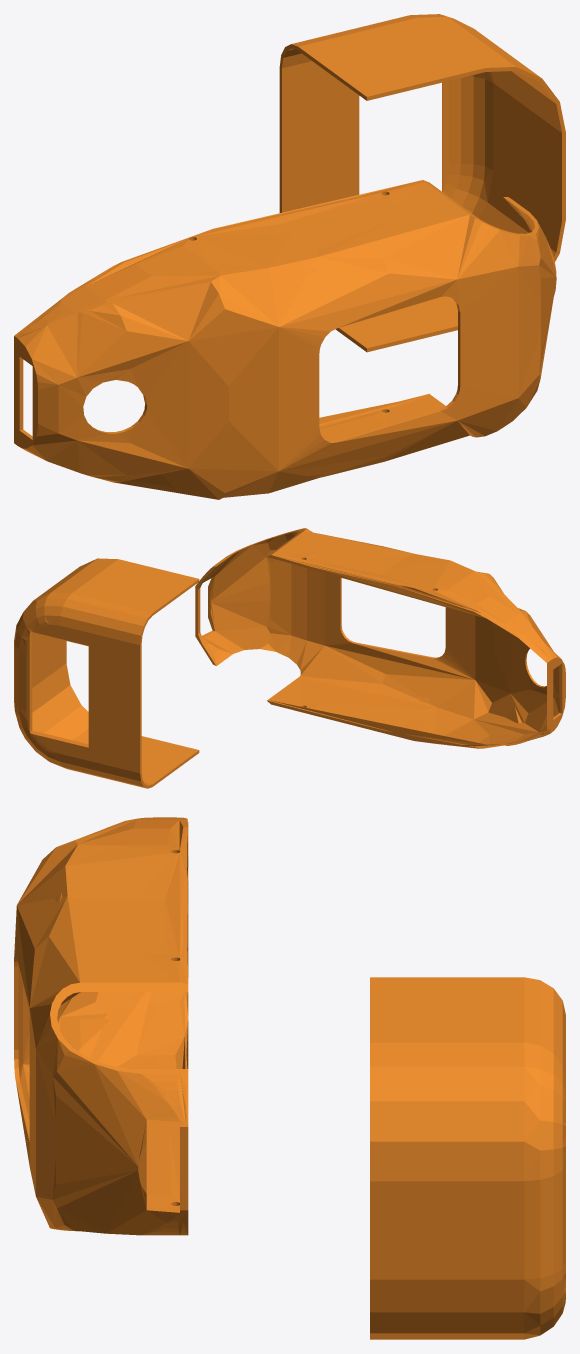
The model's file is cover.obj.
The picture shows the model from 3 angles, top to bottom: view 1: azimuth 30°, elevation 25°; view 2: azimuth 150°, elevation 25°; view 3: azimuth 270°, elevation 25°; orthographic projection. The views are drawn at different scales.
Size of the model in its own units: 197 by 76 by 132.
